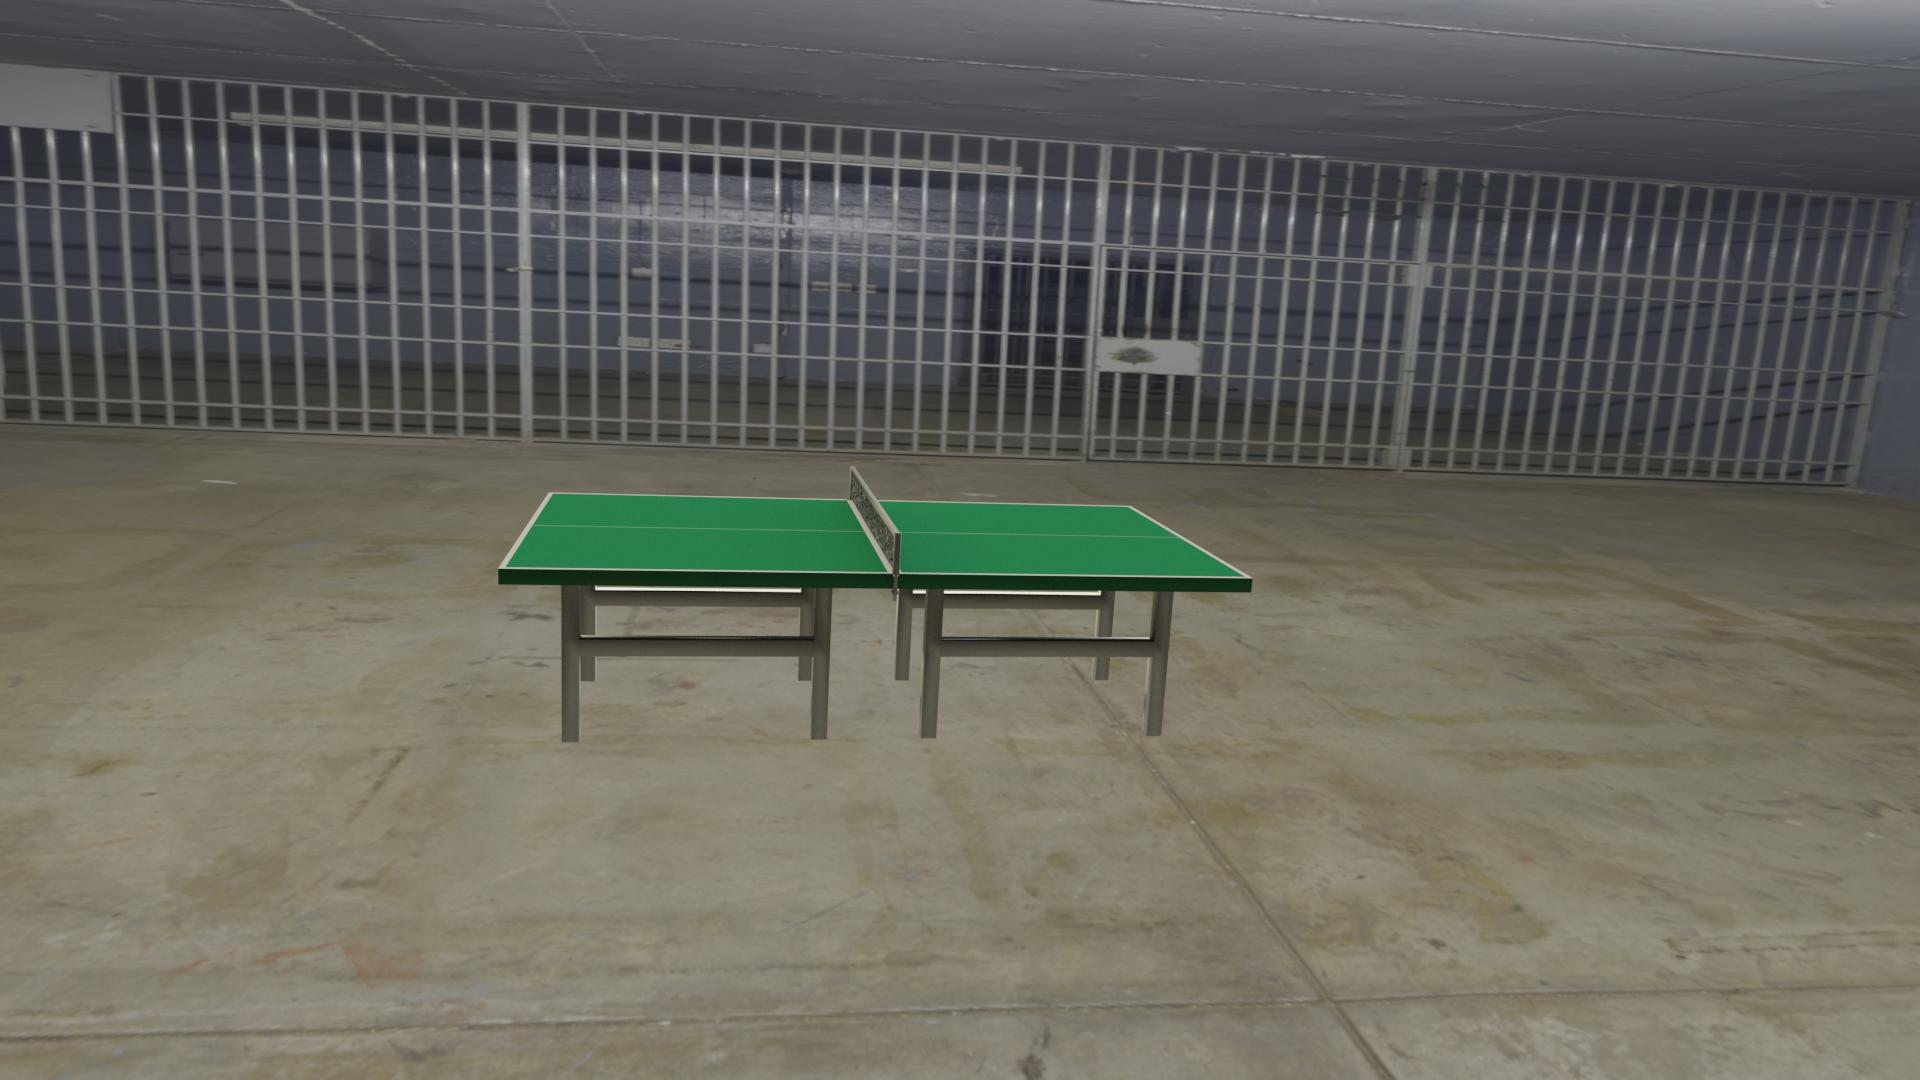table: (505, 493, 1246, 578)
